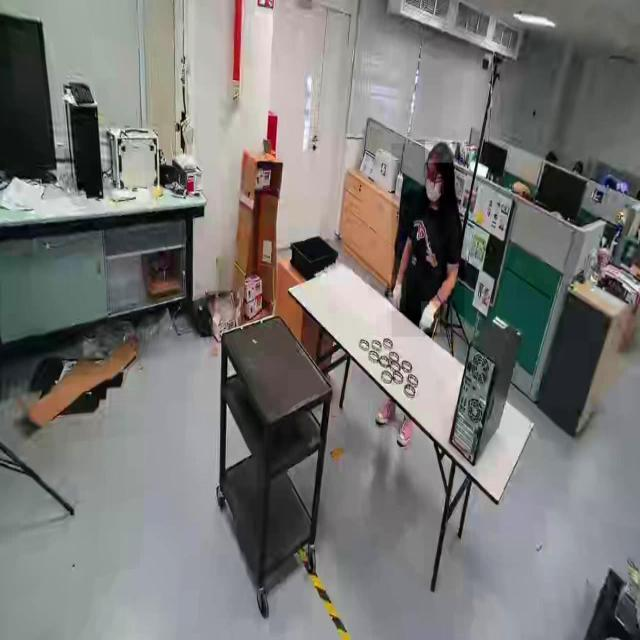face_mask: (424, 168, 442, 206)
hand_glove: (388, 275, 406, 312), (421, 302, 441, 334)
head_nohelmet: (425, 140, 453, 163)
person: (391, 143, 465, 338)
shoes: (395, 412, 417, 448), (374, 395, 398, 424)
